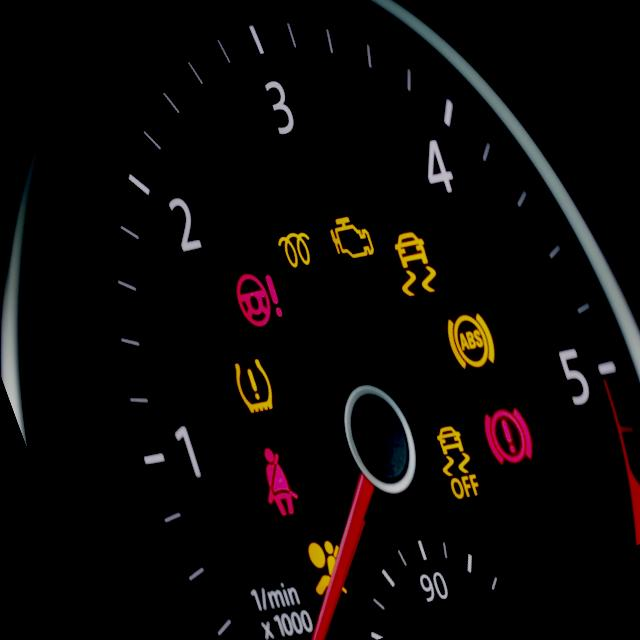kontrolka: (468, 387, 550, 489), (429, 294, 514, 385), (419, 405, 491, 508), (216, 251, 292, 342), (376, 216, 448, 308), (220, 340, 290, 430), (290, 526, 361, 614), (320, 197, 380, 272), (265, 211, 324, 280)
